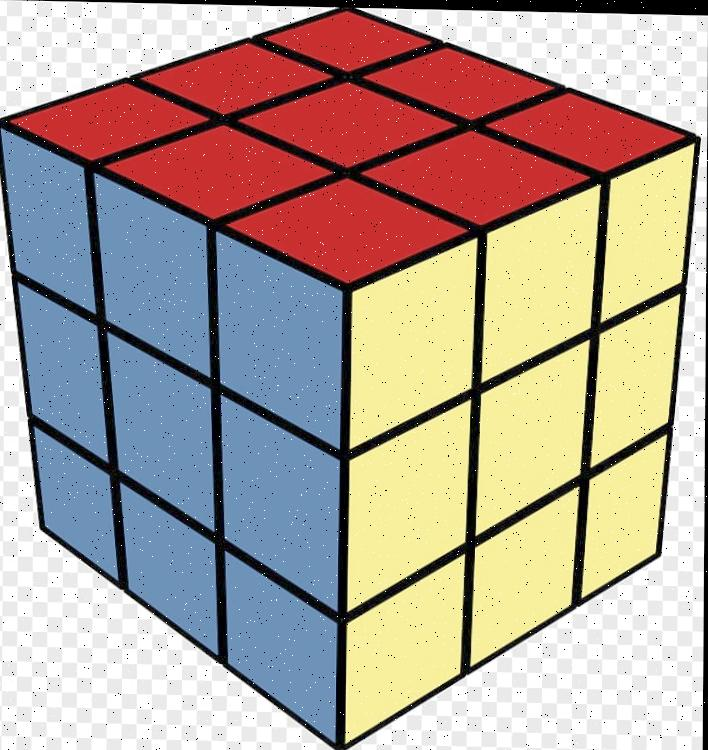cube: (6, 0, 705, 750)
